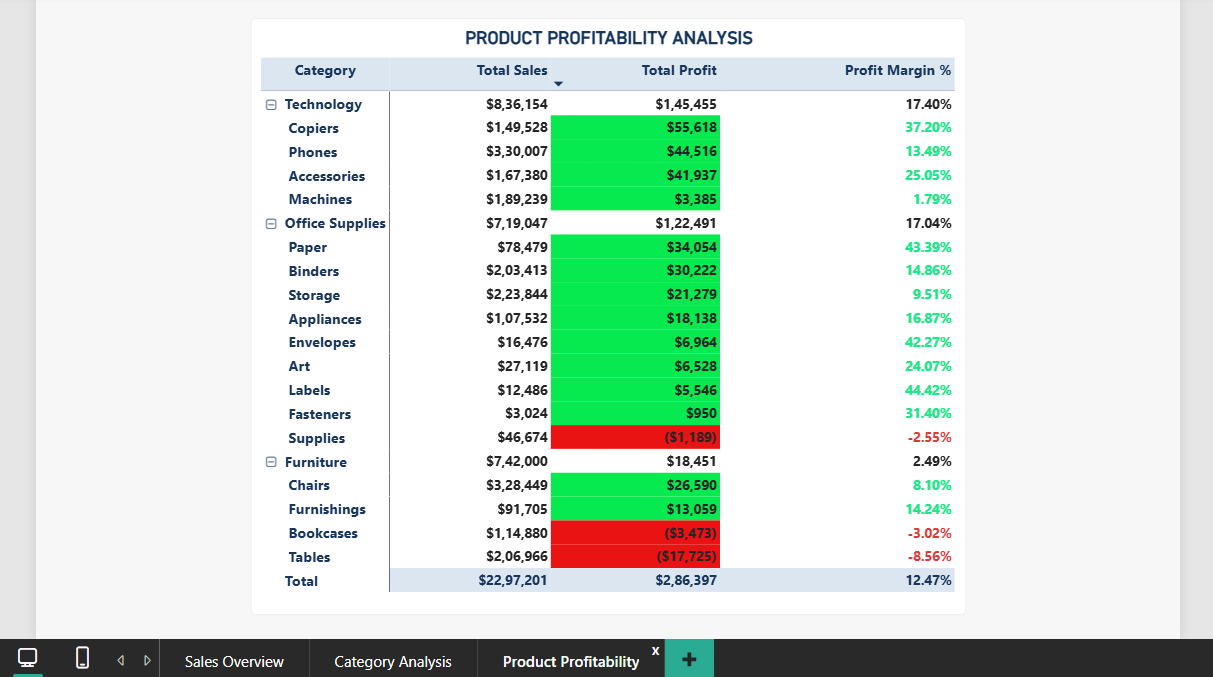

Layout of this report page (visuals, bound fields, positions):
{"tool":"powerbi","page":{"name":"Product Profitability","canvas":[1920,1080],"ordinal":2},"visuals":[{"type":"pivotTable","title":"PRODUCT PROFITABILITY ANALYSIS","fields":{"Rows":["Dim Product.Category","Dim Product.Sub-Category"],"Values":["Fact Orders.Total Sales","Fact Orders.Total Profit","Fact Orders.Profit Margin %"]},"box":[360,37.8,1200,1000.7],"z":0}]}

Visuals, with their boxes on the page's 1920x1080 design canvas (x1, y1, x2, y2). These are canvas units, not pixel positions in the 1213x677 screenshot, which may show the page scaled, cropped or inside an application window:
"PRODUCT PROFITABILITY ANALYSIS" pivotTable: <box>360,38,1560,1038</box>
